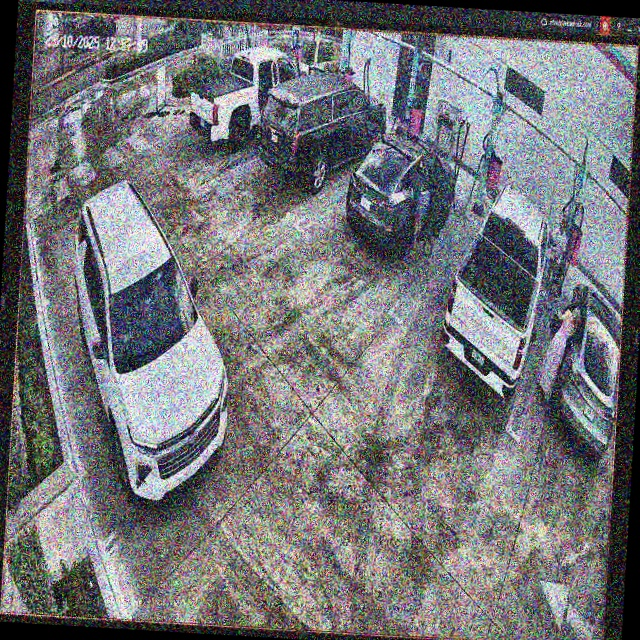Car: (58, 178, 243, 506), (436, 183, 558, 398), (253, 64, 388, 196), (346, 127, 458, 258)
